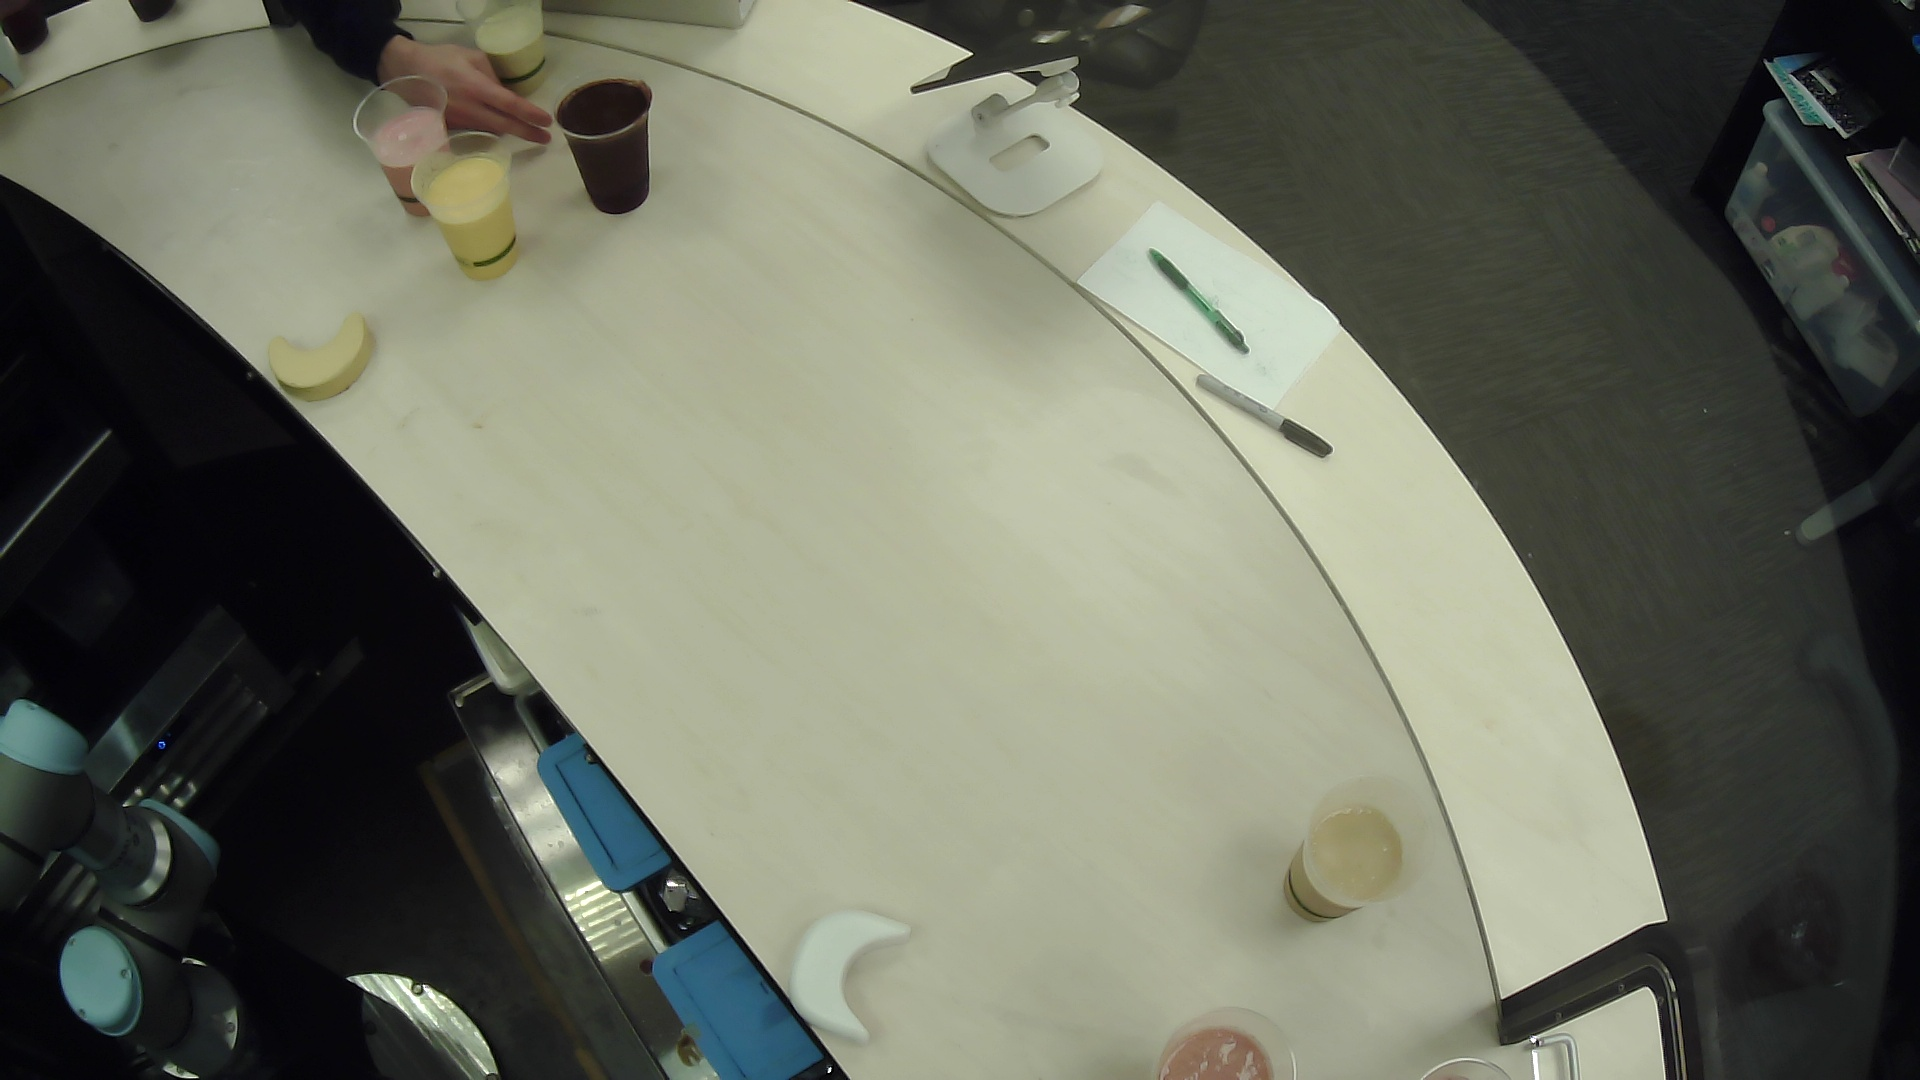Deliver: (773, 895, 951, 1054), (255, 295, 386, 409)
Full_cup: (1279, 787, 1419, 963), (545, 69, 673, 233), (407, 129, 535, 294), (349, 63, 483, 218), (1112, 989, 1311, 1080), (458, 4, 570, 99)
